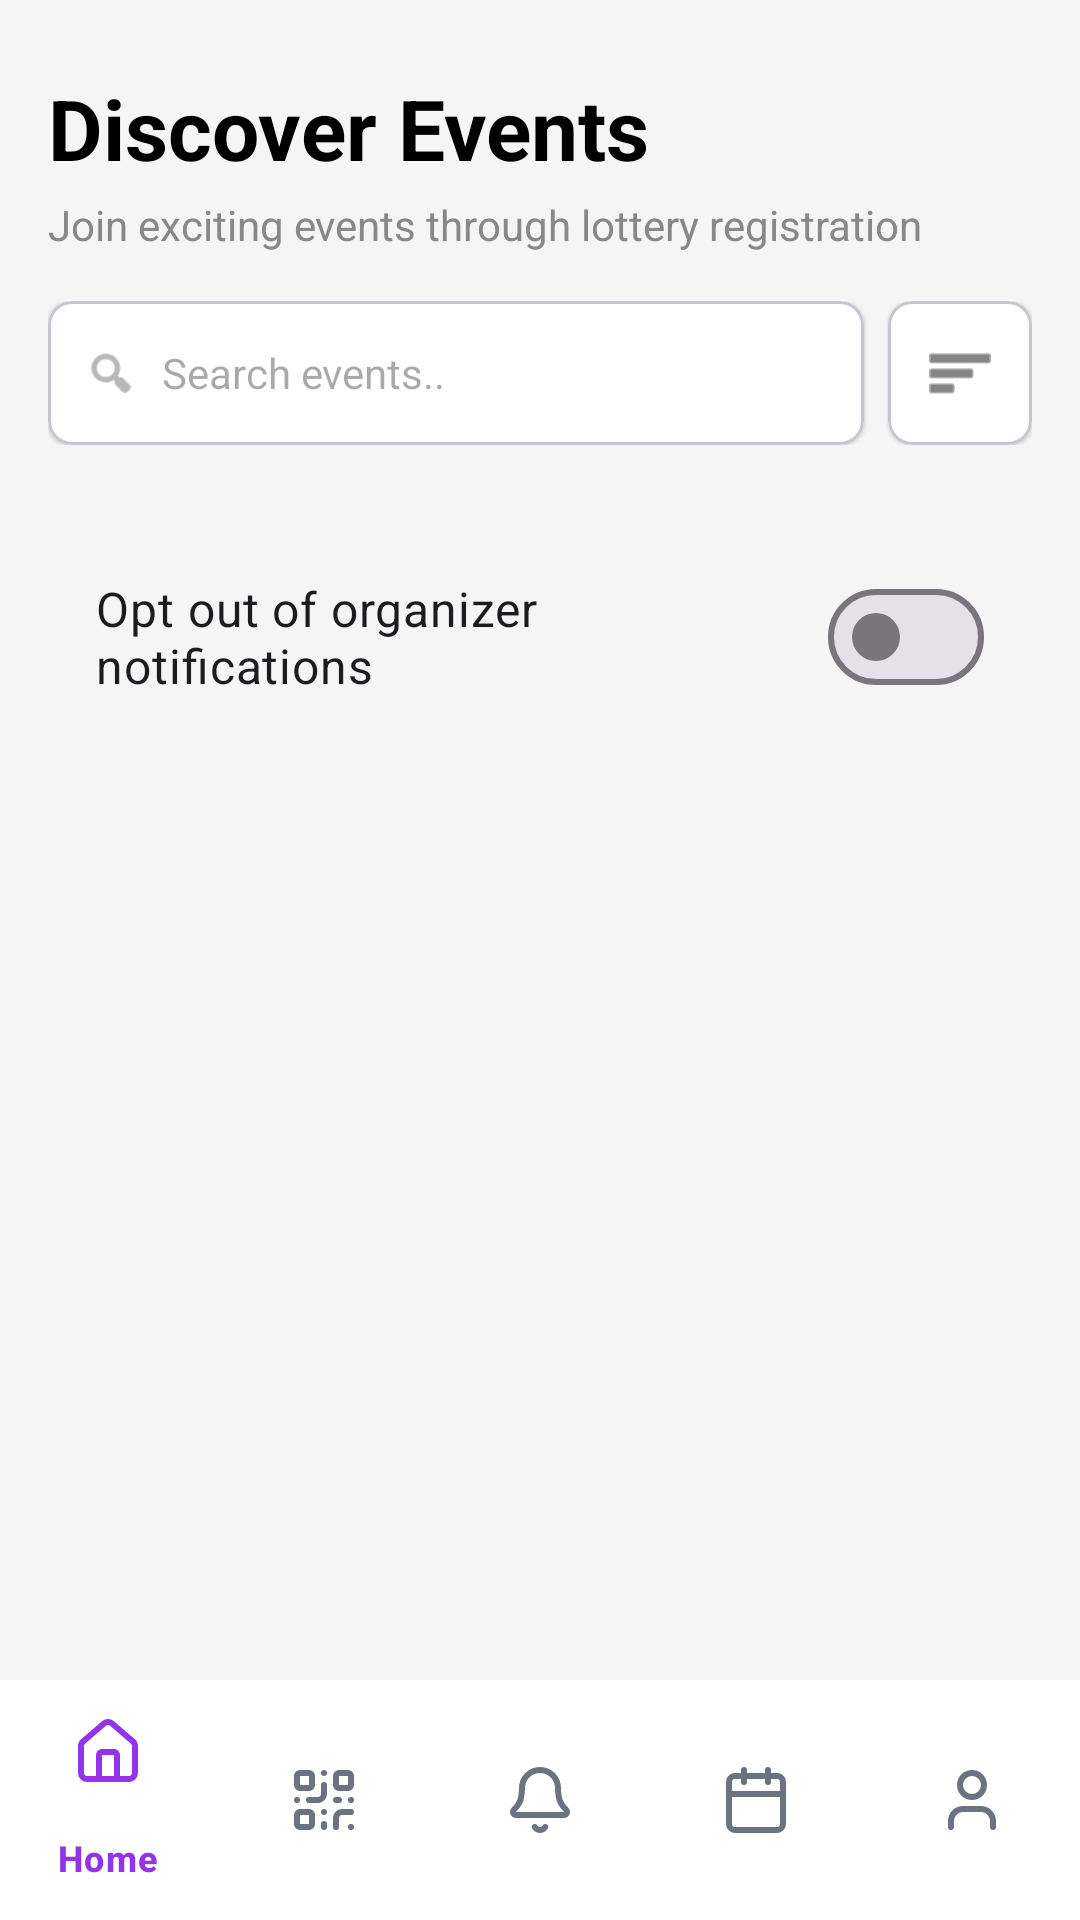

Named icons in this screenshot (1080w x 1920h) and their bounding boxes, bbox(x1, y1, x2, y2):
sort by size: bbox(929, 353, 991, 394)
